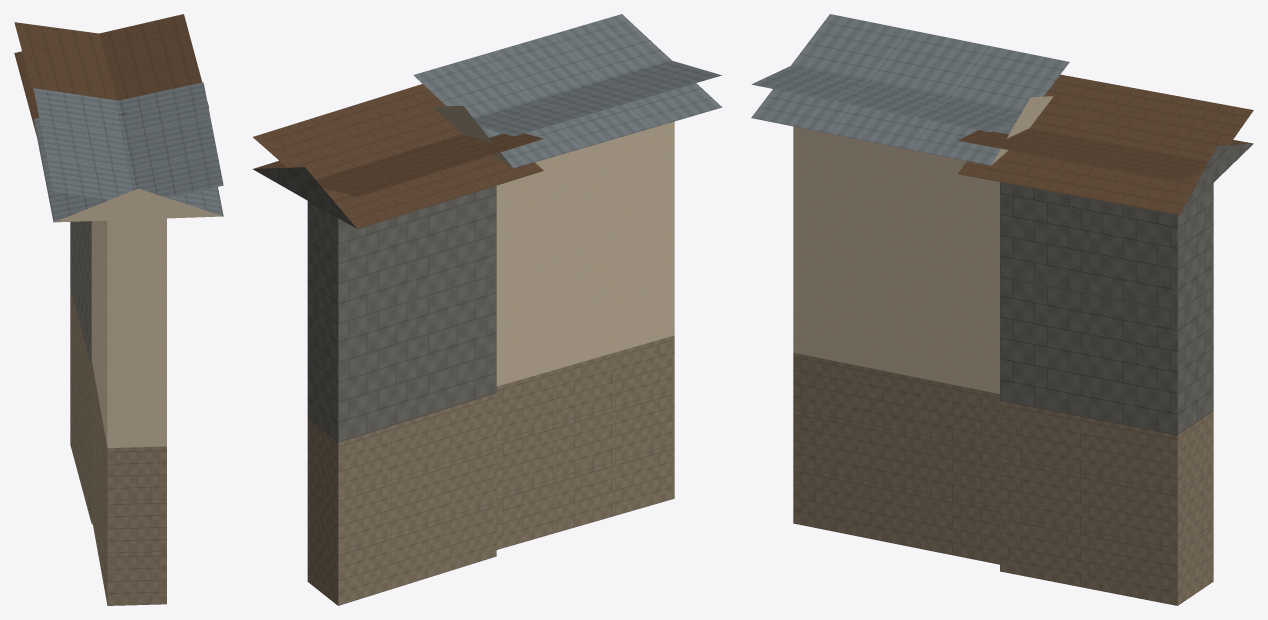
Rendered from bld_c31_-40_459.gltf.
3 views of the same model, side by side, from view 1: azimuth 30°, elevation 25°; view 2: azimuth 150°, elevation 25°; view 3: azimuth 270°, elevation 25° (orthographic). The views are drawn at different scales.
Visible parts, largest first — view 1: bld_c31_-40_459; view 2: bld_c31_-40_459; view 3: bld_c31_-40_459.
Boxes of the visible parts, x1,y1,x2,y2 form: bld_c31_-40_459: (14, 14, 223, 605); bld_c31_-40_459: (253, 14, 722, 605); bld_c31_-40_459: (751, 14, 1253, 605).
Size of the model in its own units: 9.89 by 13.9 by 13.62.
Materials: 7 (7 with a texture image).
